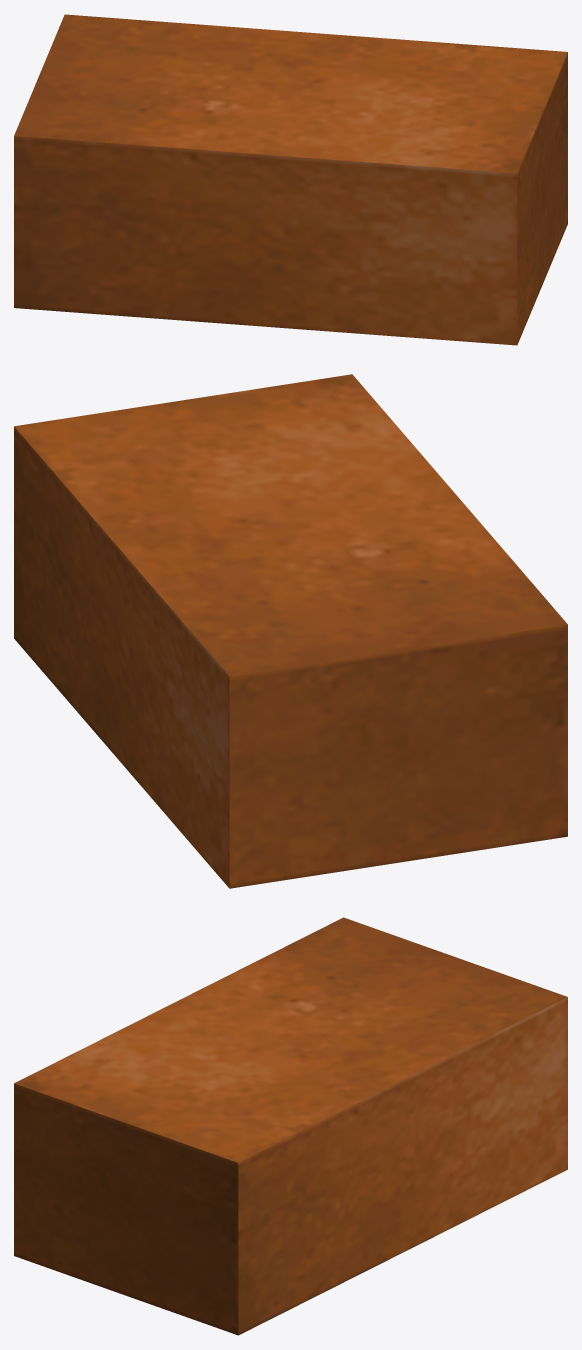
The picture shows the model from 3 angles, top to bottom: view 1: azimuth 30°, elevation 25°; view 2: azimuth 150°, elevation 25°; view 3: azimuth 270°, elevation 25°; orthographic projection. The views are drawn at different scales.
Visible parts, largest first — view 1: Joint_0_Object_0; view 2: Joint_0_Object_0; view 3: Joint_0_Object_0.
Part boxes in pixels (left/top/right/bottom): Joint_0_Object_0: left=14, top=14, right=567, bottom=345; Joint_0_Object_0: left=14, top=374, right=567, bottom=888; Joint_0_Object_0: left=14, top=917, right=567, bottom=1335.
Bounding box in the file's own units: 525 × 172 × 500.
Materials: 1 (1 with a texture image).
